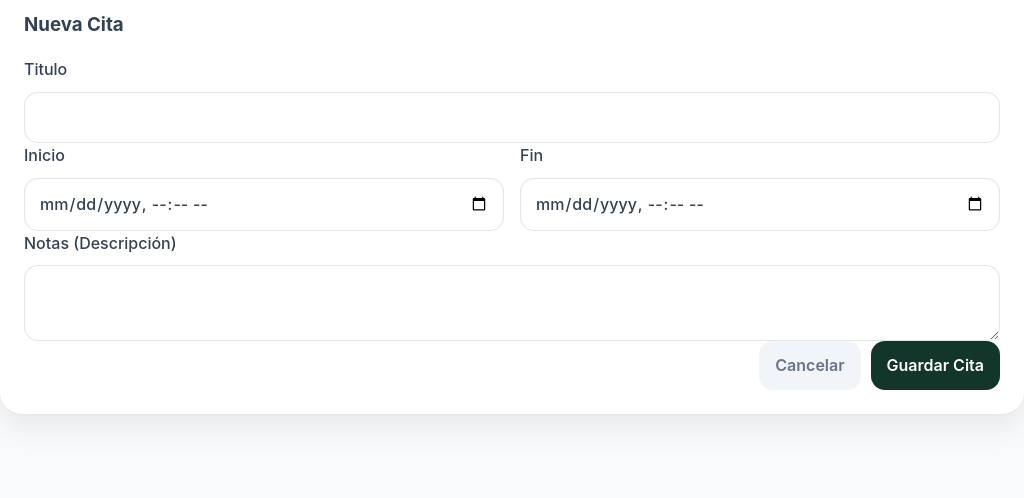
Scenario: AppointmentForm › rechaza cuando la hora de fin no es posterior a la de inicio
The image size is (1024, 498).
In the field labelled "Titulo": (512, 118) left=24, top=92, right=1000, bottom=143, type "Sesión"
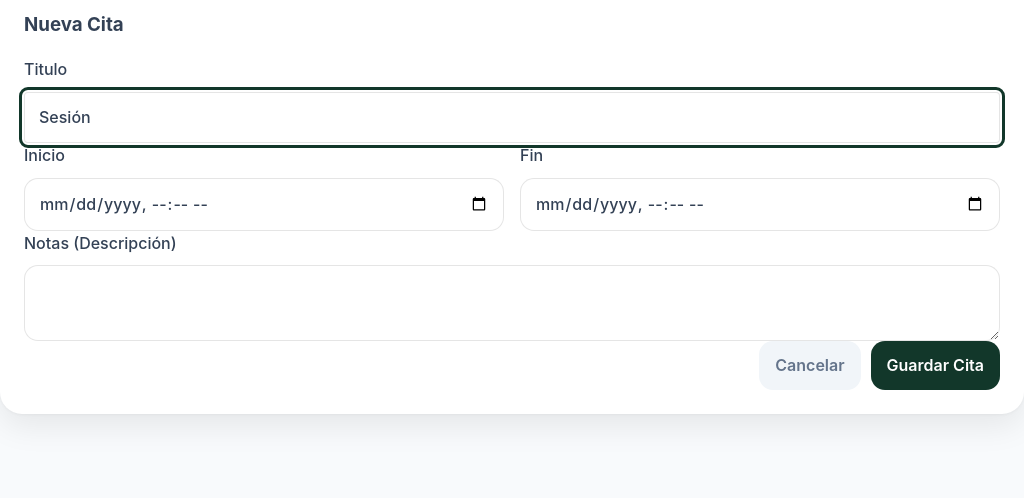
In the field labelled "Inicio": (264, 204) left=24, top=178, right=504, bottom=231, type "2026-06-10T10:00"
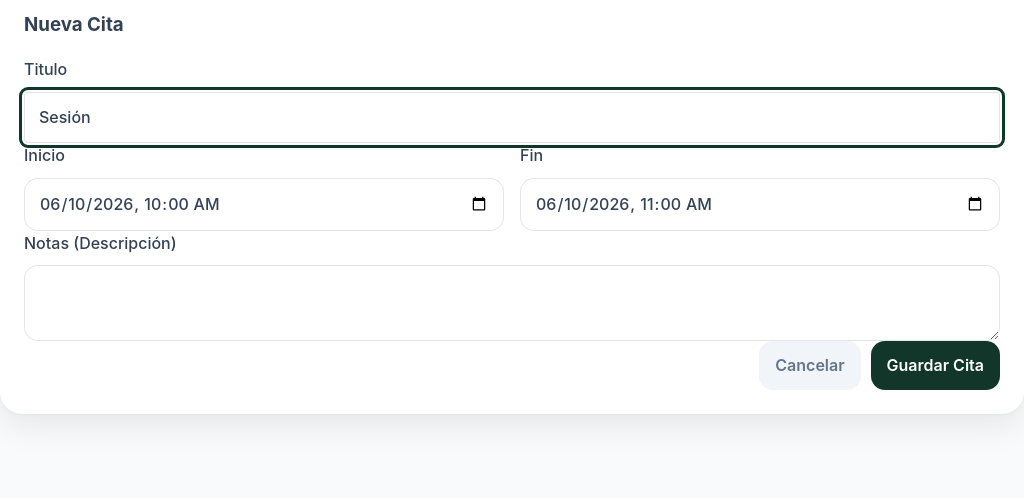
Replace the text in the field labelled "Fin" with "2026-06-10T09:00": (760, 204) left=520, top=178, right=1000, bottom=231
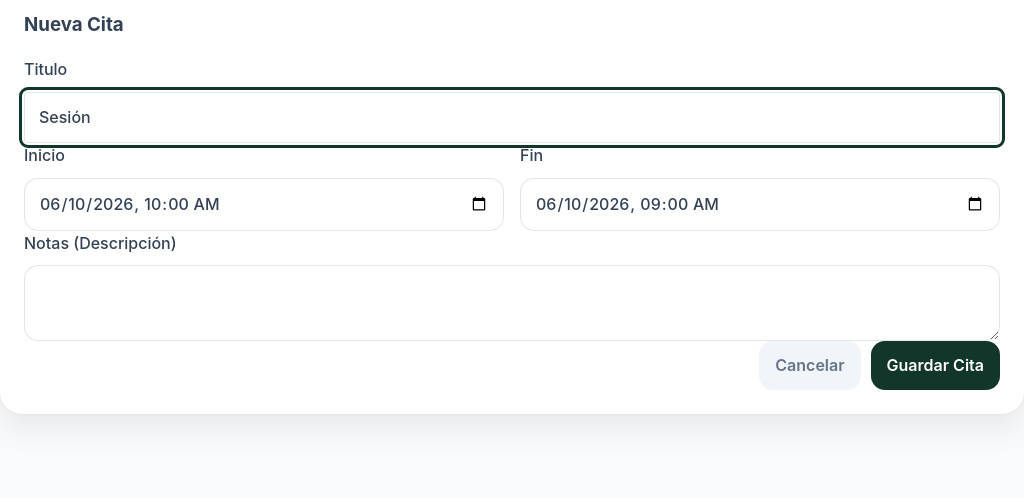
Click the button "Guardar Cita": (935, 365) left=871, top=341, right=1000, bottom=390
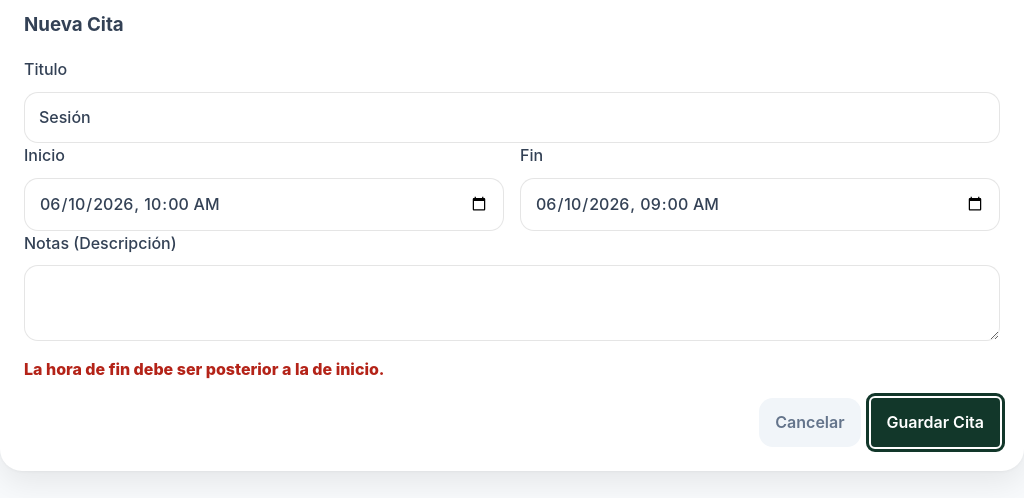
Expected: the text "La hora de fin debe ser posterior a la de inicio." is shown, left=24, top=359, right=384, bottom=379
